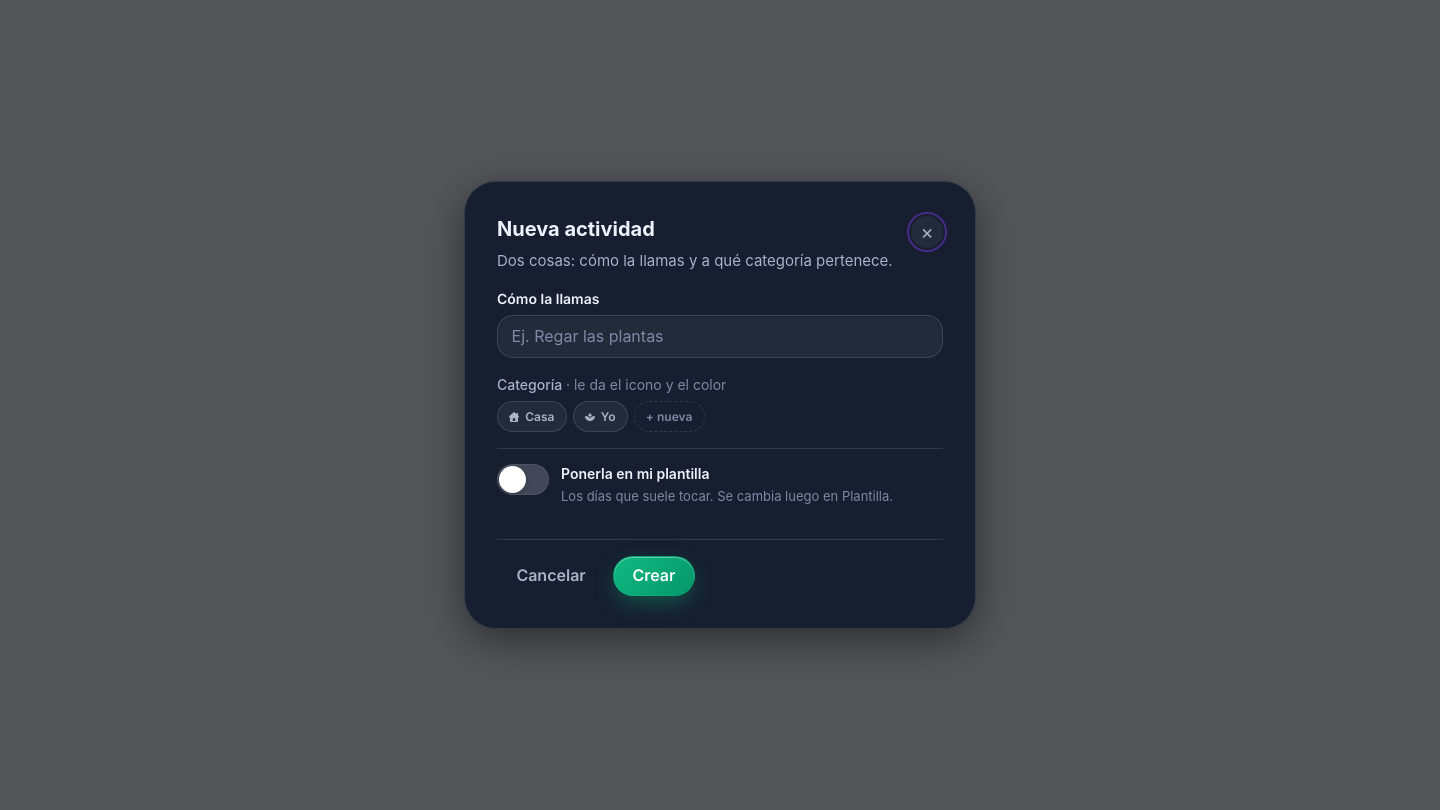
Test: VidaActivitySheet › sin nombre no envía nada y señala el campo (criterio 12)
Click the button "Casa": (532, 417) [497,401,567,432]
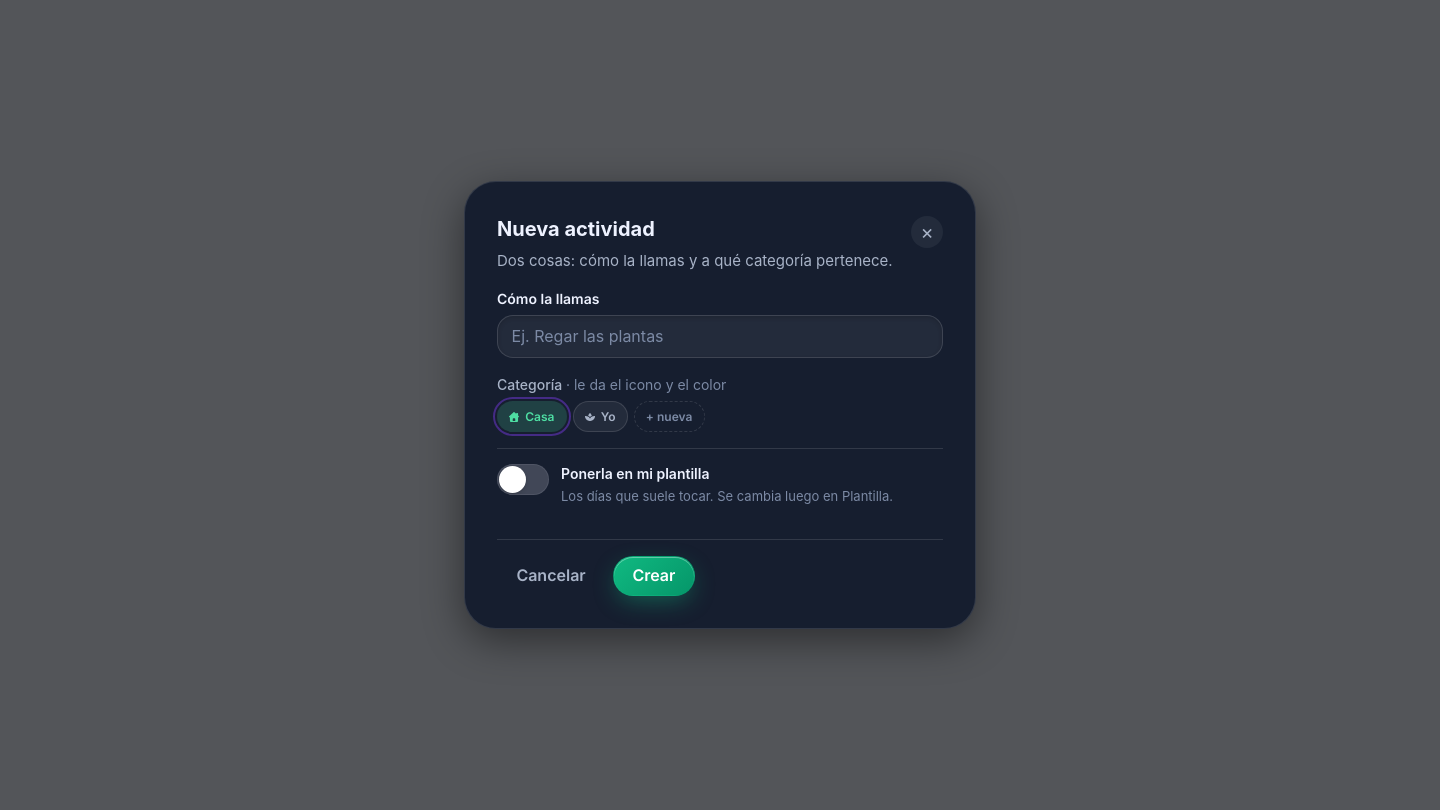
Click the button "Crear": (654, 576) [613,556,695,596]
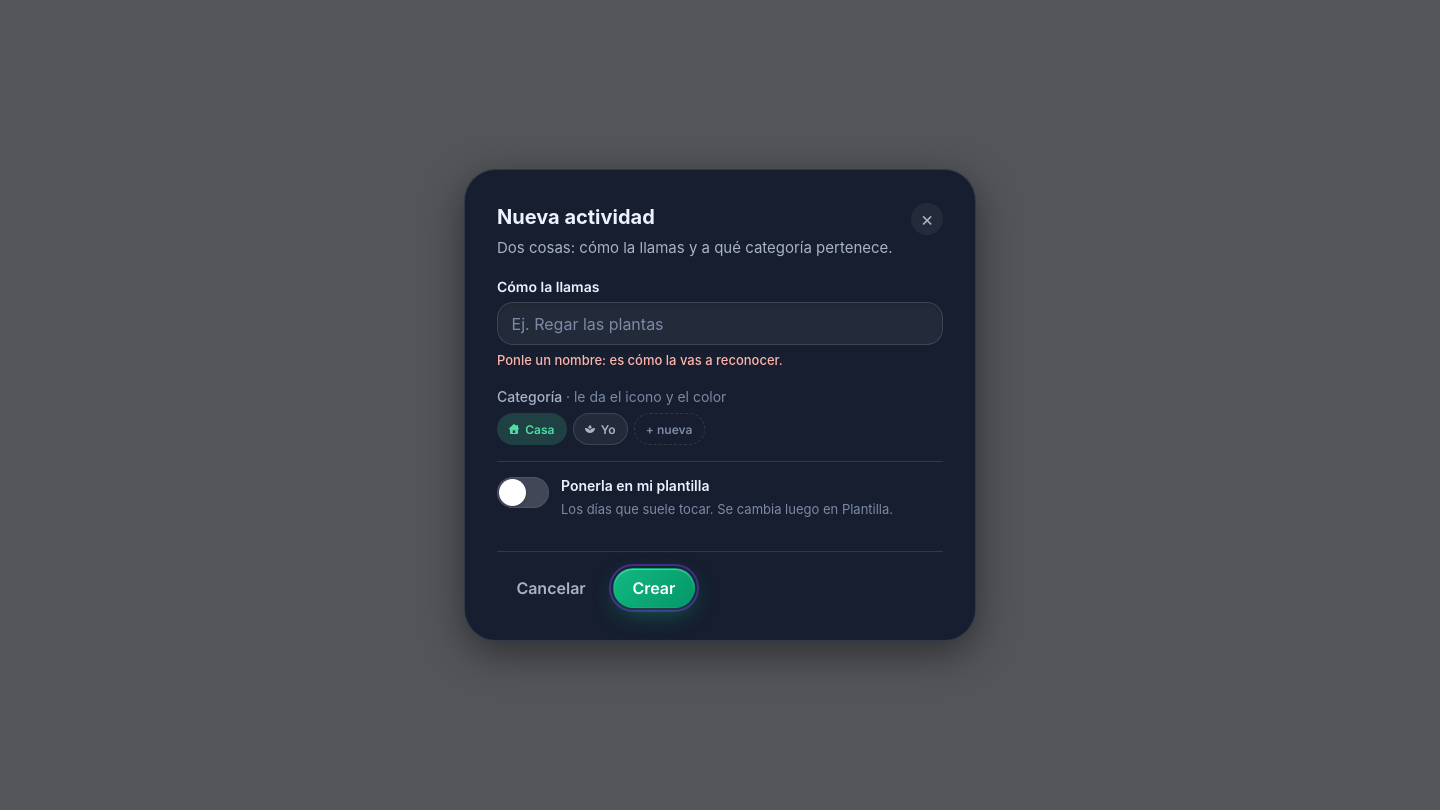
Expected: the text "Ponle un nombre: es cómo la vas a reconocer." is shown, [497,352,783,368]
